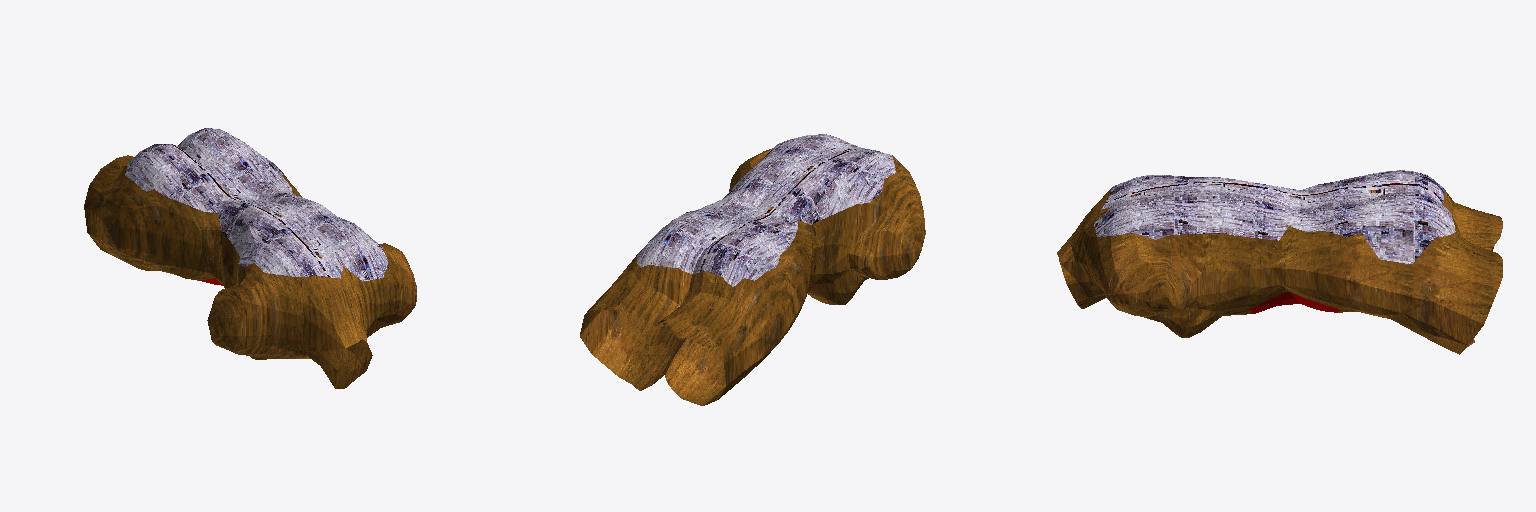
3 renders of one model, left to right at view 1: azimuth 30°, elevation 25°; view 2: azimuth 150°, elevation 25°; view 3: azimuth 270°, elevation 25°, orthographic.
Visible parts, largest first — view 1: venus; view 2: venus; view 3: venus.
Boxes of the visible parts, x1,y1,x2,y2 form: venus: [84, 128, 416, 388]; venus: [580, 134, 925, 405]; venus: [1057, 170, 1502, 354].
Size of the model in its own units: 7.68 by 5.58 by 15.65.
3 materials, 2 textured.